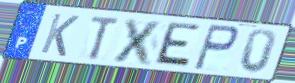0: (237, 28, 279, 76)
E: (151, 20, 203, 70)
K: (38, 11, 82, 59)
P: (191, 23, 241, 72)
T: (88, 15, 123, 62)
X: (109, 16, 167, 67)
